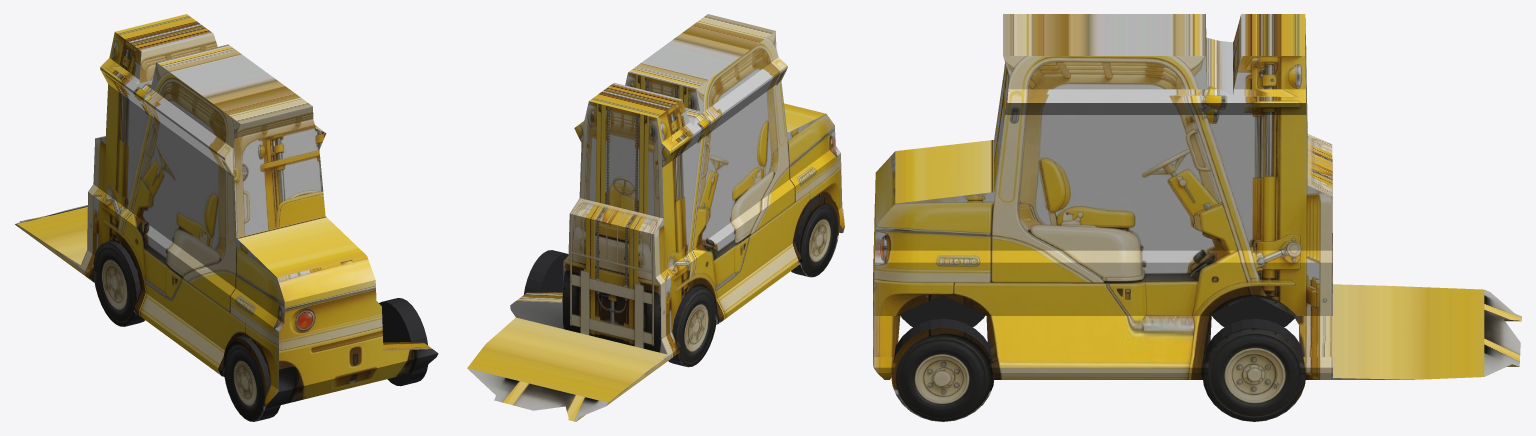
Rendered from forklift.glb.
3 renders of one model, left to right at view 1: azimuth 30°, elevation 25°; view 2: azimuth 150°, elevation 25°; view 3: azimuth 270°, elevation 25°, orthographic. The views are drawn at different scales.
Parts seen in each view (by area): view 1: forklift, wheel_BL, wheel_FL, wheel_BR; view 2: forklift, wheel_BL, wheel_FL, wheel_FR; view 3: forklift, wheel_BR, wheel_FR, wheel_BL, wheel_FL.
Boxes of the visible parts, x1=… form: forklift: x1=15, y1=14, x2=438, y2=408; wheel_BL: x1=223, y1=336, x2=280, y2=421; wheel_FL: x1=93, y1=241, x2=144, y2=326; wheel_BR: x1=379, y1=298, x2=428, y2=386; forklift: x1=467, y1=14, x2=844, y2=421; wheel_BL: x1=791, y1=196, x2=839, y2=277; wheel_FL: x1=668, y1=286, x2=717, y2=367; wheel_FR: x1=524, y1=250, x2=568, y2=294; forklift: x1=873, y1=14, x2=1521, y2=379; wheel_BR: x1=891, y1=318, x2=994, y2=421; wheel_FR: x1=1202, y1=318, x2=1306, y2=421; wheel_BL: x1=900, y1=295, x2=985, y2=327; wheel_FL: x1=1211, y1=295, x2=1294, y2=327.
Bounding box in the file's own units: 1.17 × 1.82 × 3.29.
3 materials, 1 textured.
